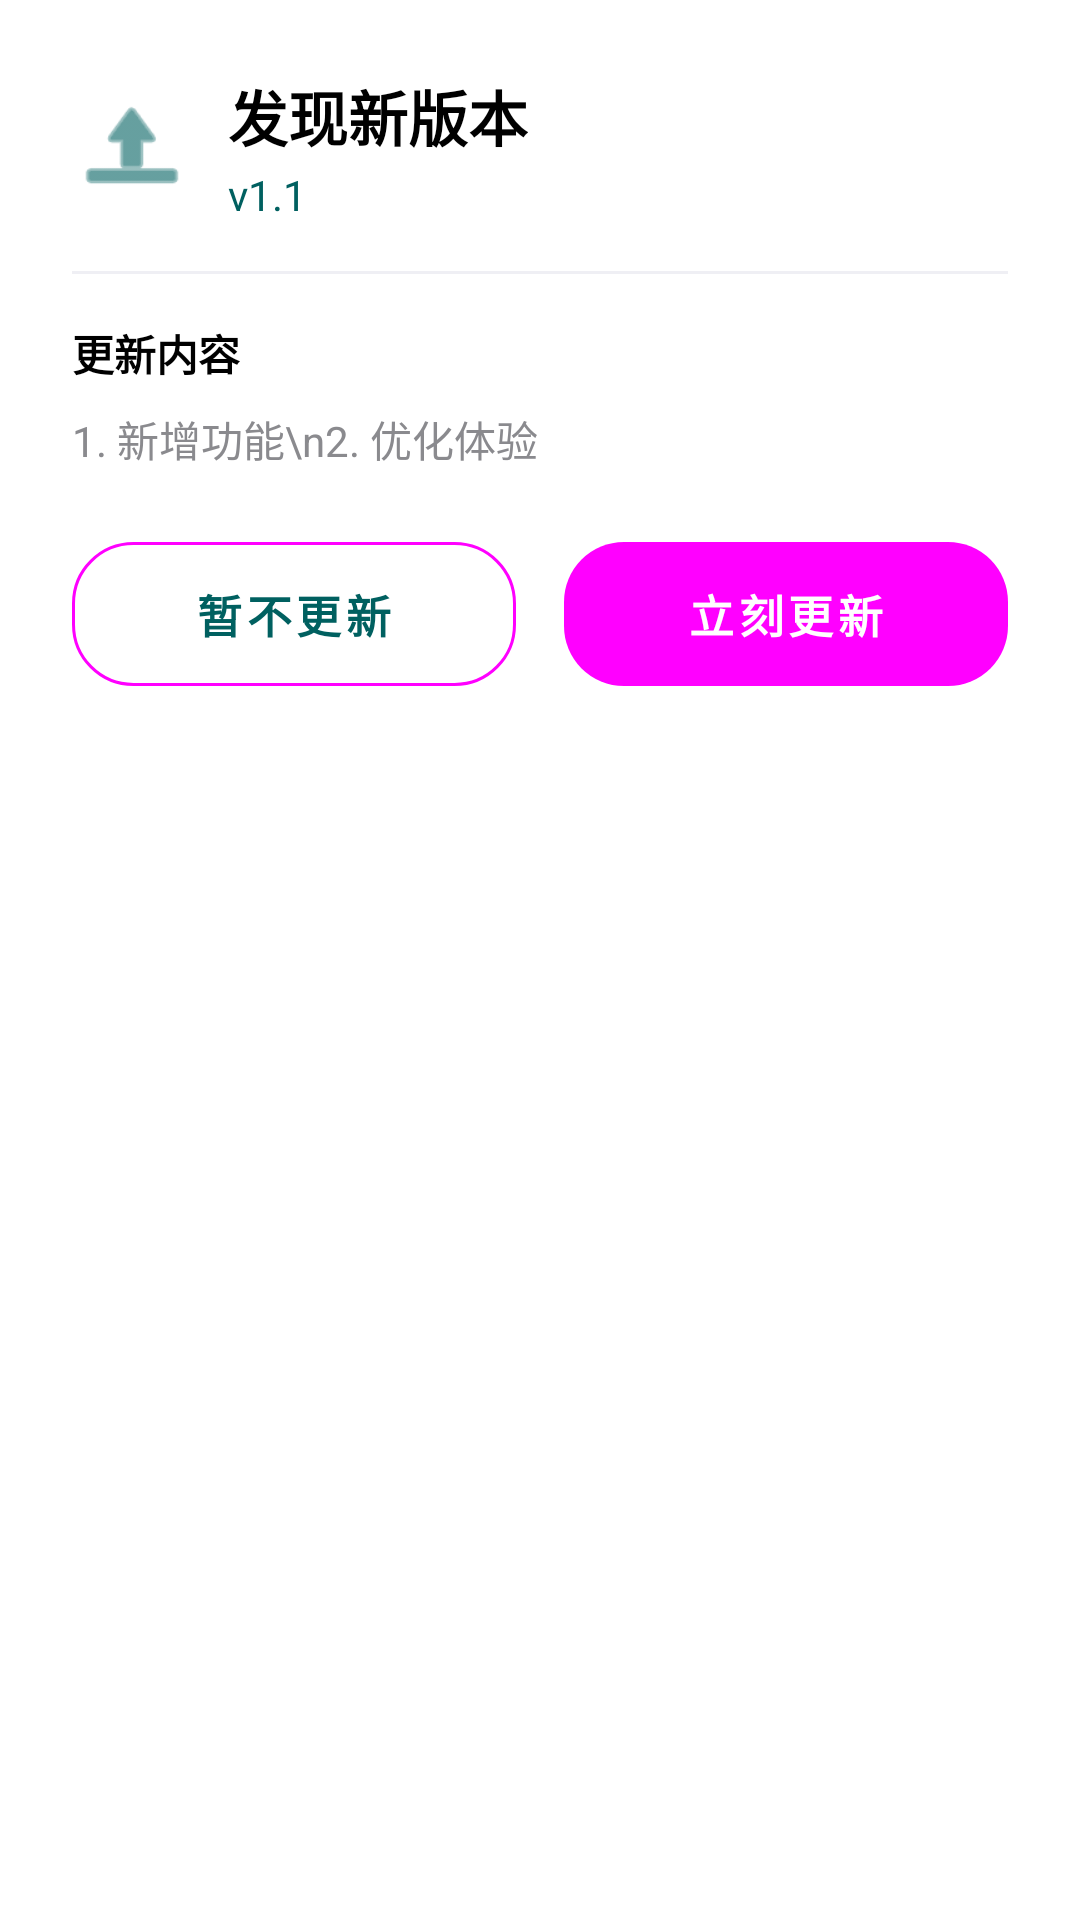

Screen size 1080px×1920px. Icon name, then its center in pixels as point (x, y):
upload: point (132, 145)
